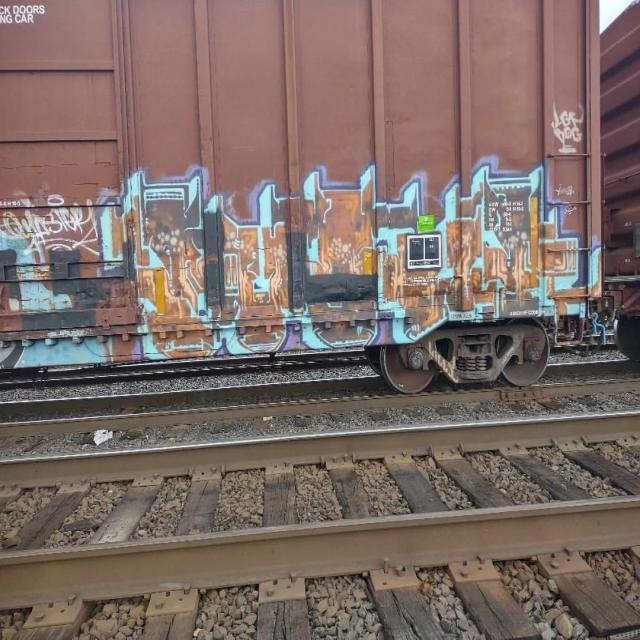-: (5, 172, 588, 372), (1, 184, 107, 267), (543, 94, 589, 166), (0, 1, 55, 32)
